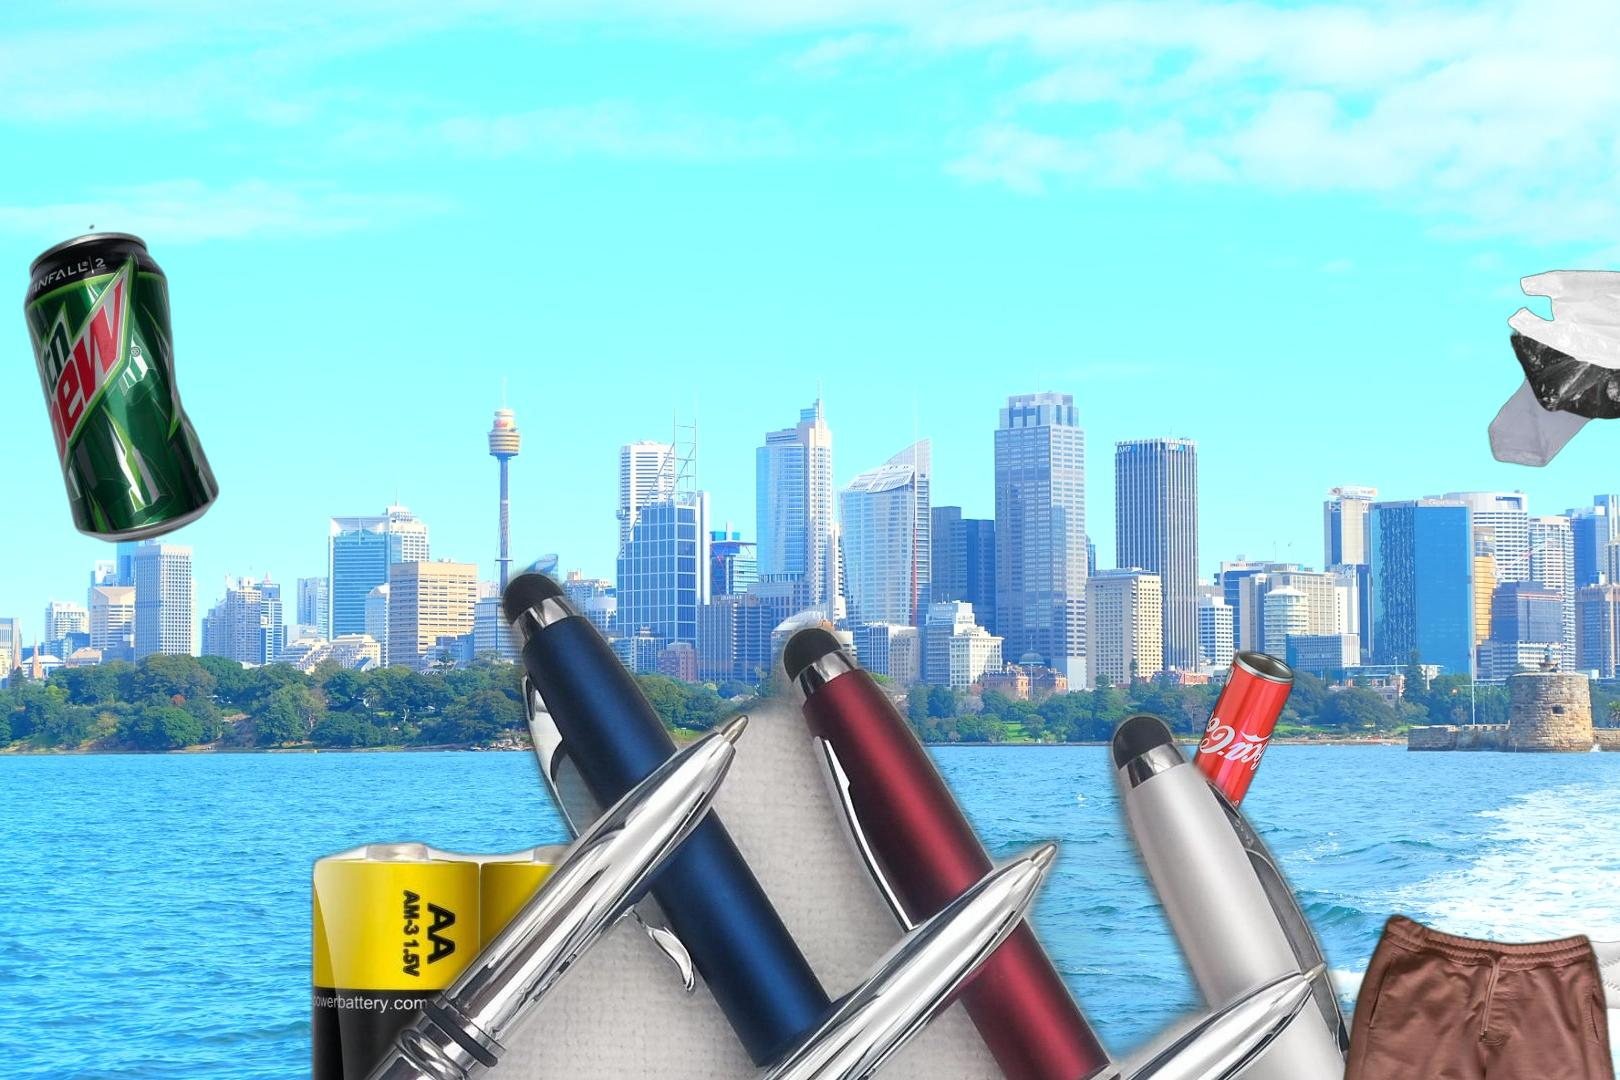battery: (304, 834, 653, 1080)
clothes: (1326, 909, 1620, 1080)
metal-cans: (20, 222, 224, 546), (1177, 645, 1299, 825)
penholder: (77, 553, 1620, 1080)
plastic-bag: (1485, 267, 1620, 469)
trash: (1576, 879, 1620, 1057)
